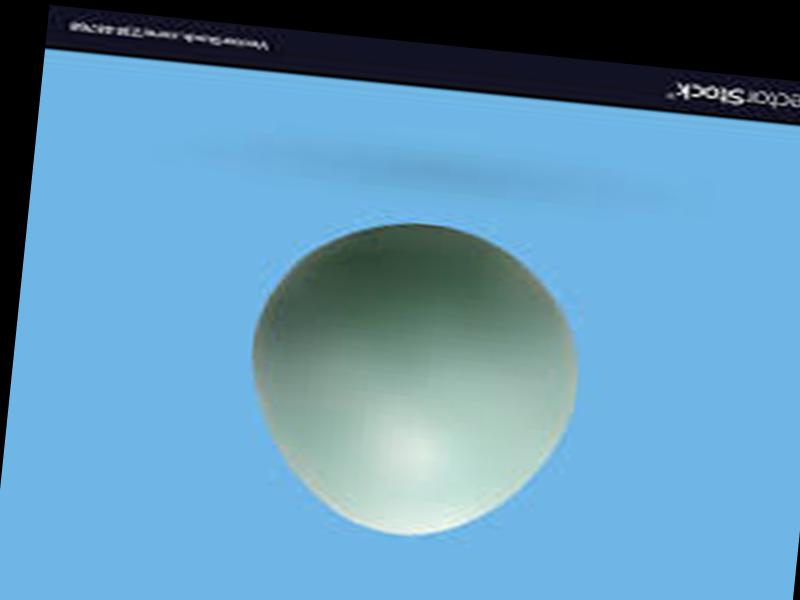Eggs: (231, 209, 590, 550)
